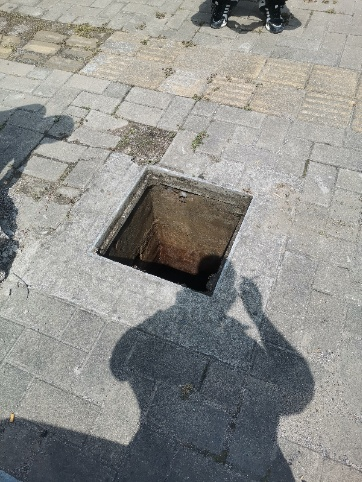lose: (84, 161, 255, 302)
